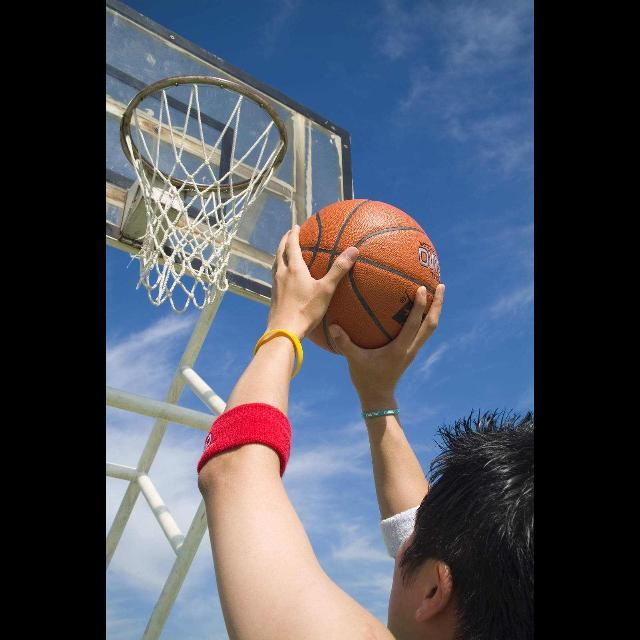basketball: (290, 198, 442, 360)
rim: (122, 74, 286, 314)
